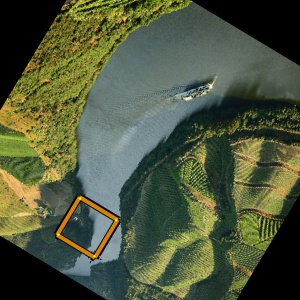square: (53, 193, 122, 262)
